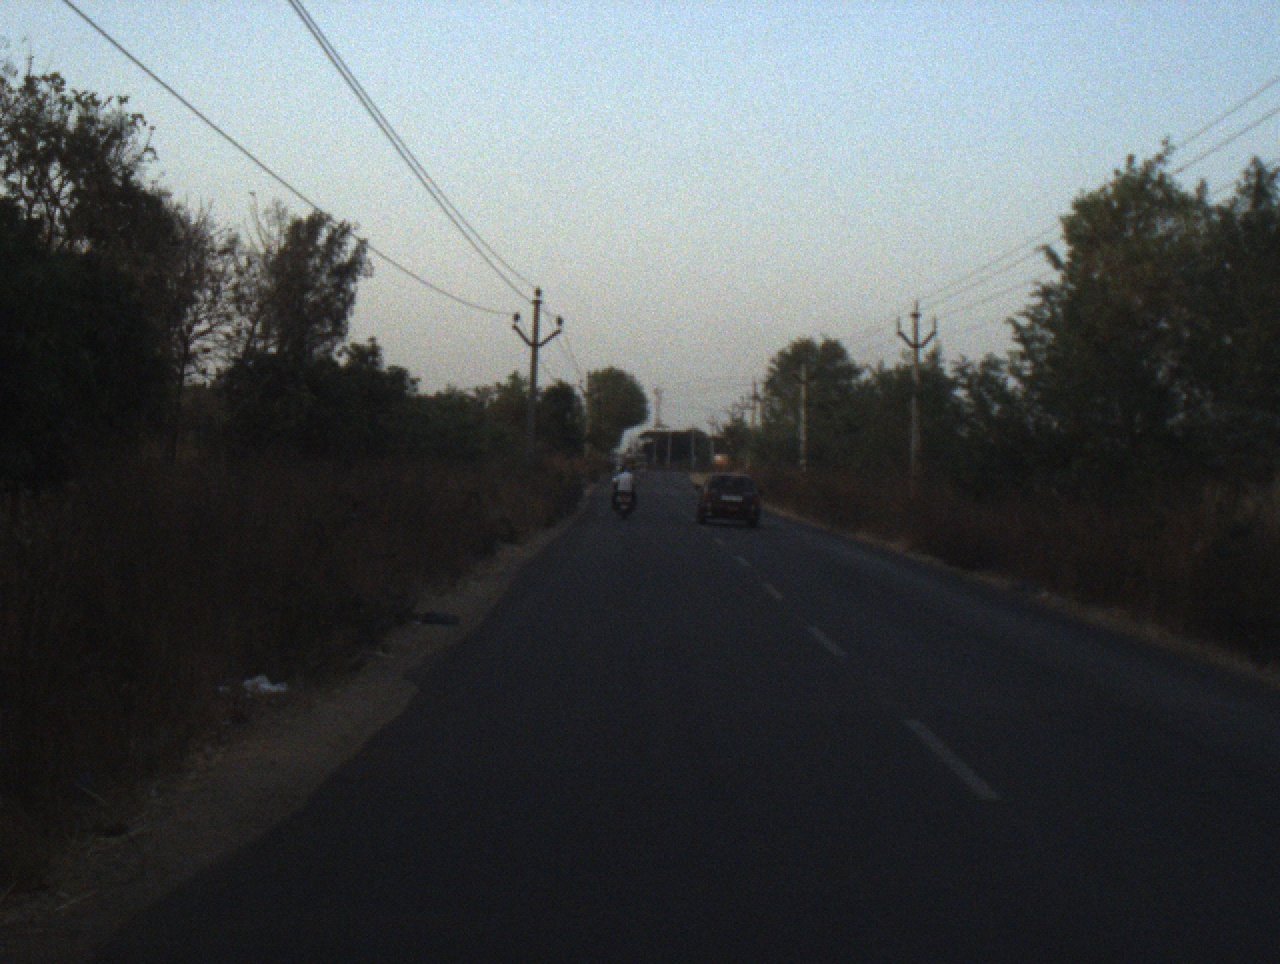car: (693, 471, 765, 528)
motorcycle: (610, 487, 640, 520)
rider: (610, 464, 639, 509)
vehicle fallback: (631, 452, 649, 471)
